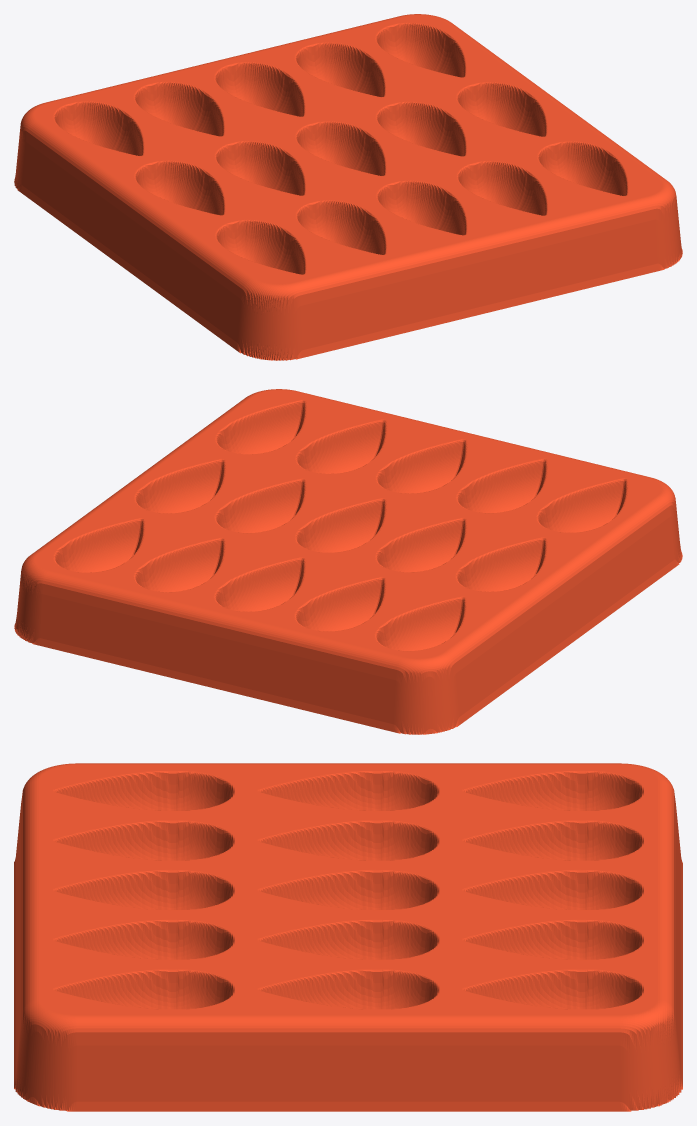
File: mold.glb
3 views of the same model, one above another, from view 1: azimuth 30°, elevation 25°; view 2: azimuth 150°, elevation 25°; view 3: azimuth 270°, elevation 25° (orthographic). The views are drawn at different scales.
Parts seen in each view (by area): view 1: geometry_0; view 2: geometry_0; view 3: geometry_0.
Boxes of the visible parts, x1,y1,x2,y2 form: geometry_0: [14, 14, 682, 360]; geometry_0: [14, 389, 682, 734]; geometry_0: [14, 763, 682, 1111].
Size of the model in its own units: 0.0928 by 0.0136 by 0.0966.
